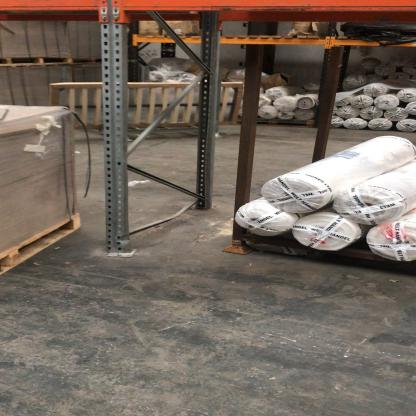vertical_damage: (101, 225, 139, 261)
